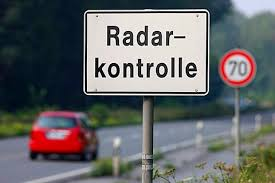Speed_limit_70km: (218, 49, 257, 88)
